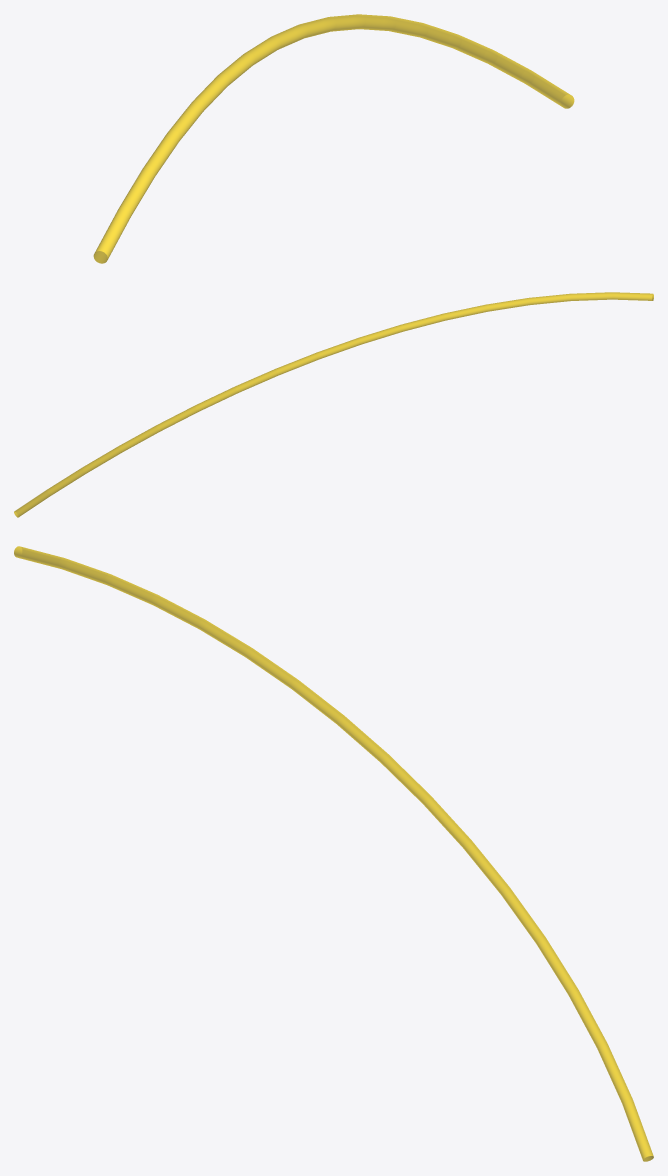
File: Event_17758602_track_2.fbx
3 views of the same model, one above another, from view 1: azimuth 30°, elevation 25°; view 2: azimuth 150°, elevation 25°; view 3: azimuth 270°, elevation 25° (orthographic). The views are drawn at different scales.
Visible parts, largest first — view 1: Model; view 2: Model; view 3: Model.
Part boxes in pixels (left/top/right/bottom): Model: left=93, top=14, right=574, bottom=263; Model: left=14, top=292, right=653, bottom=517; Model: left=14, top=546, right=653, bottom=1161.
Bounding box in the file's own units: 2.73 × 1.13 × 2.2.
